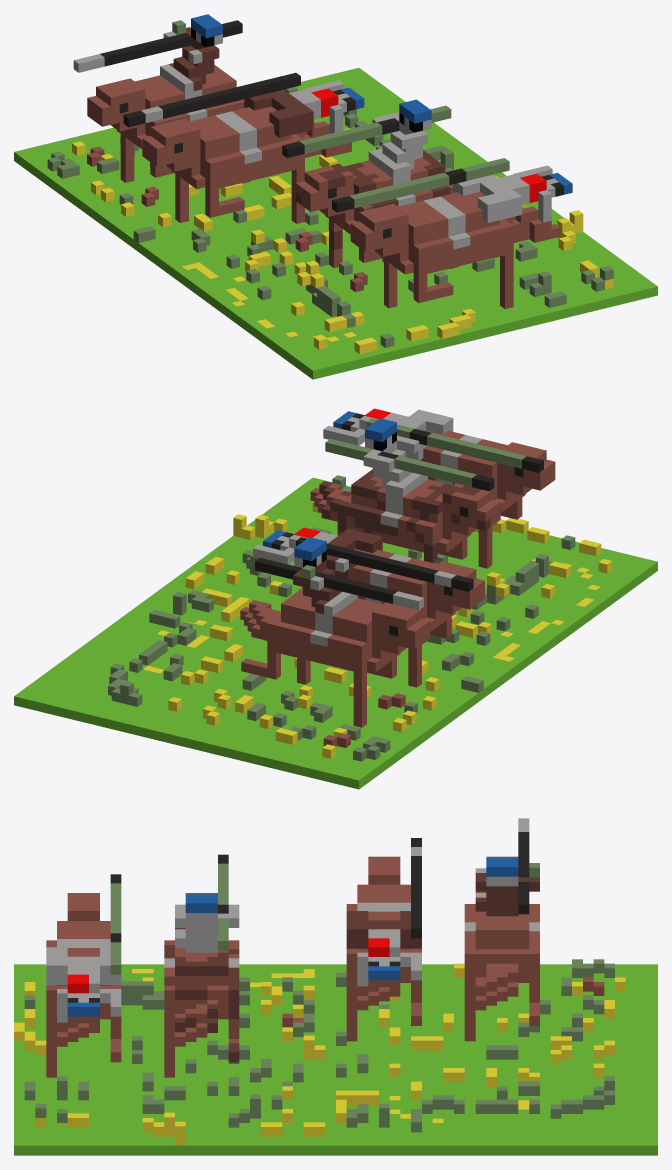
File: tartar_engage_cossacks-1.obj
3 renders of one model, top to bottom at view 1: azimuth 30°, elevation 25°; view 2: azimuth 150°, elevation 25°; view 3: azimuth 270°, elevation 25°, orthographic. The views are drawn at different scales.
Size of the model in its own units: 4 by 1.8 by 6.
1 material, 1 textured.
